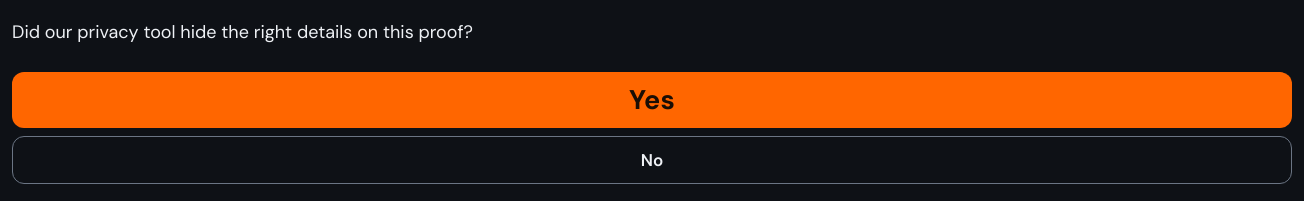
Scenario: BlurCheck › asks the question; Yes answers at once with no comment
expect the text "Did our privacy tool hide the right details on this proof?" is shown: met, box [12,20,473,44]
Click the button "Yes" at {"x": 652, "y": 100}, box [12,72,1292,128]
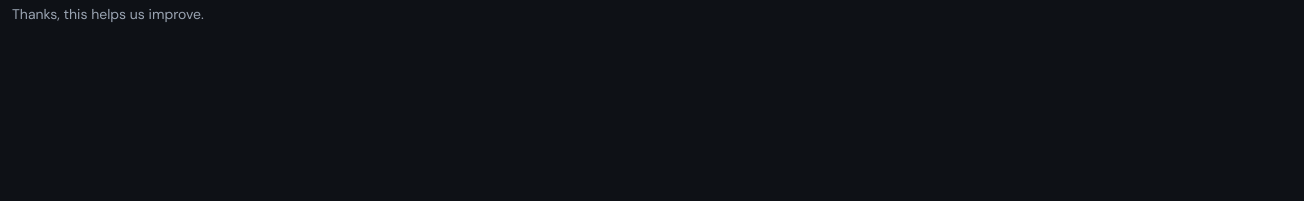
expect the text "Thanks, this helps us improve." is shown: met, box [12,5,204,23]
